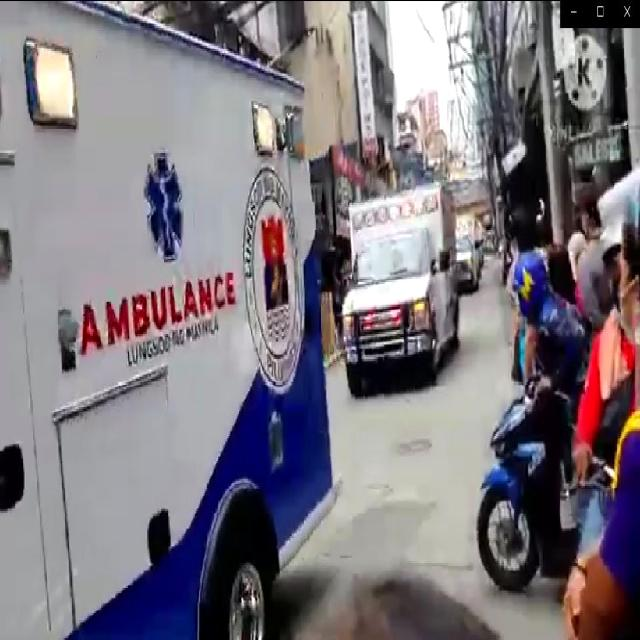emergency: (0, 0, 347, 640), (334, 182, 464, 401), (442, 206, 480, 300)
